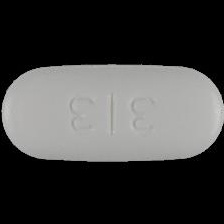55289-280: (0, 0, 224, 224)
